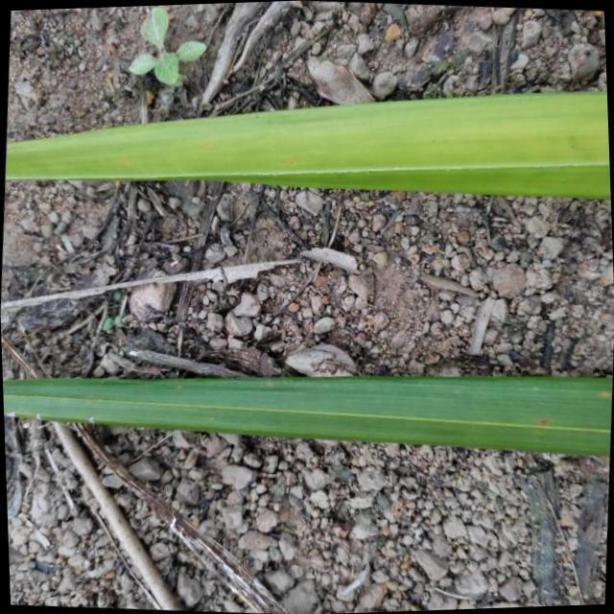nitrogen: (0, 82, 614, 204), (9, 367, 614, 462)
